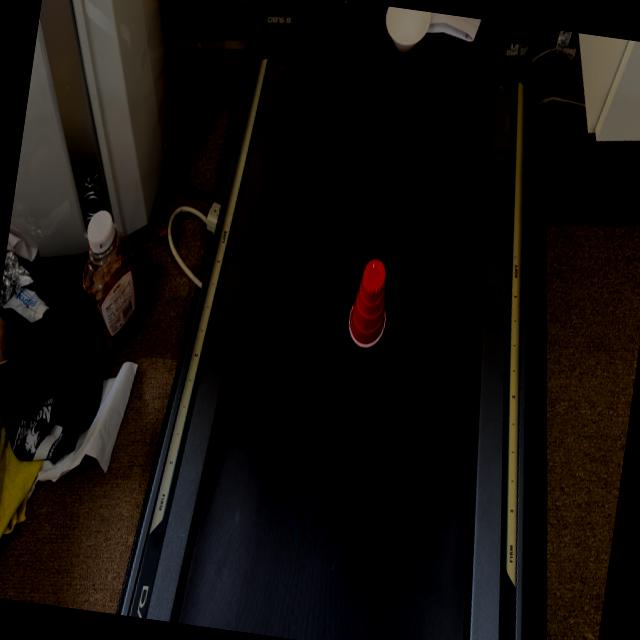Recycle: (343, 247, 409, 354)
